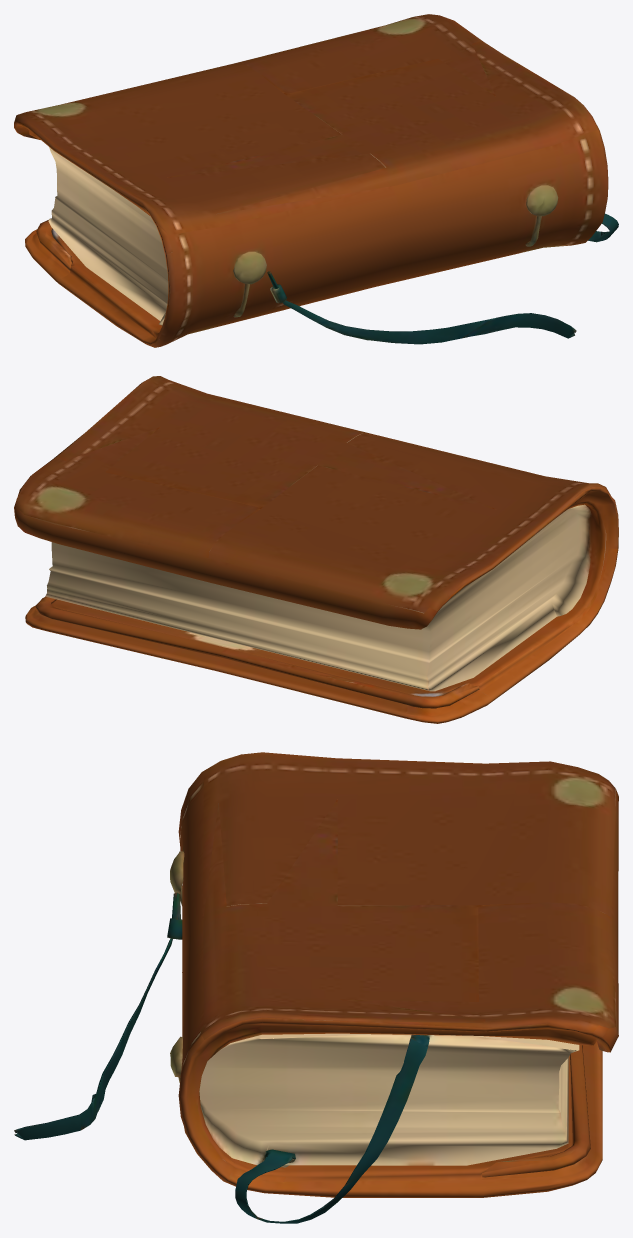
The model's file is carnet.glb.
3 views of the same model, one above another, from view 1: azimuth 30°, elevation 25°; view 2: azimuth 150°, elevation 25°; view 3: azimuth 270°, elevation 25° (orthographic). The views are drawn at different scales.
Size of the model in its own units: 0.958 by 0.3032 by 0.8413.
1 material, 1 textured.
